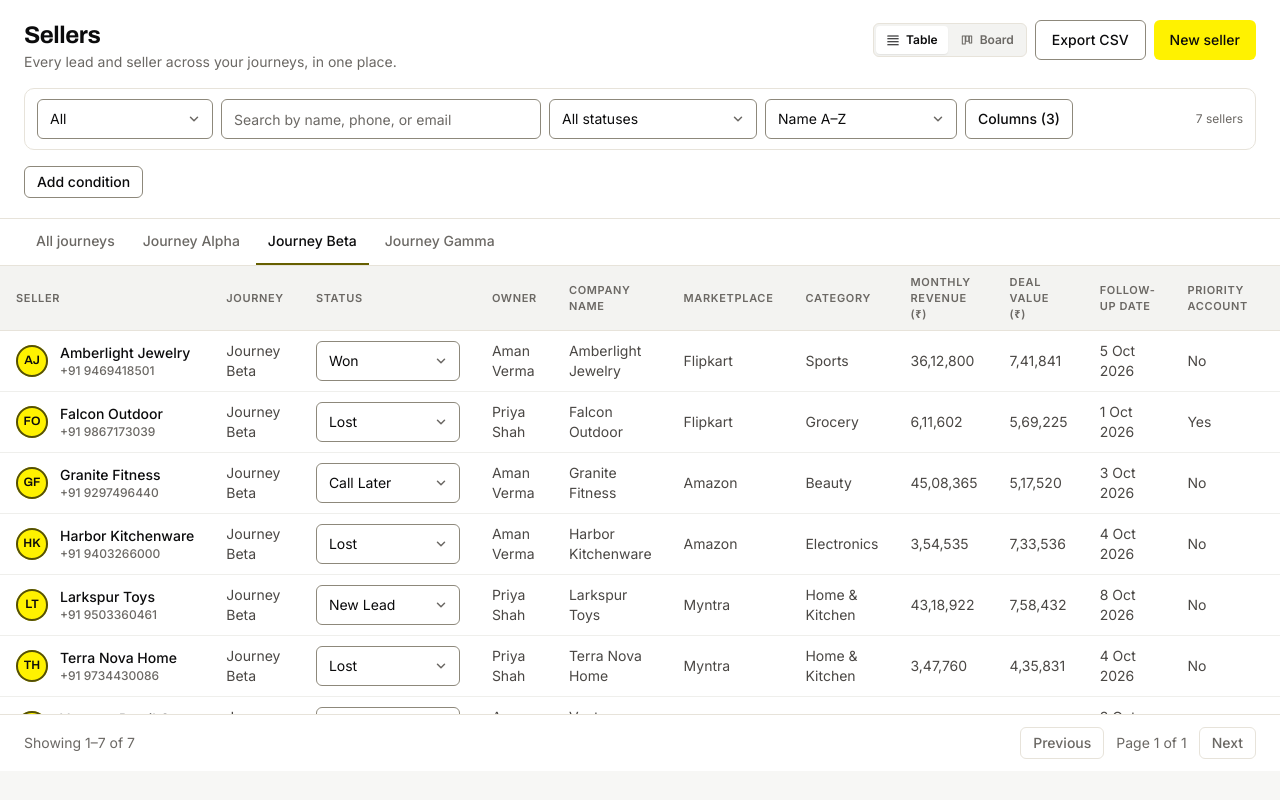
Scenario: seller list data-heavy columns › adds a column per Field once a specific journey is selected, and drops them for All journeys
Check: the column heading "Monthly Revenue (₹)" is shown, box [894, 266, 994, 330]
Click the tab "All journeys" at (75, 242), box [24, 219, 127, 265]
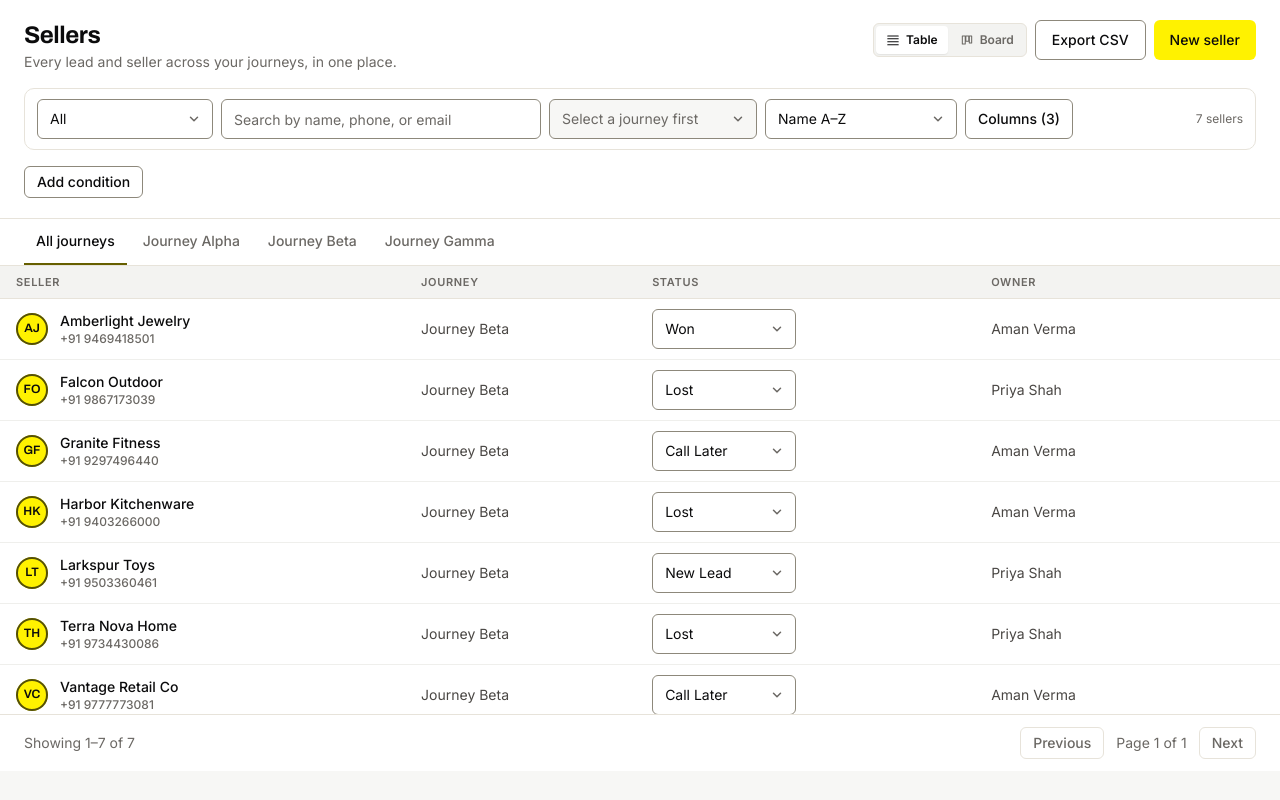
Check: the column heading "Monthly Revenue (₹)" is gone
